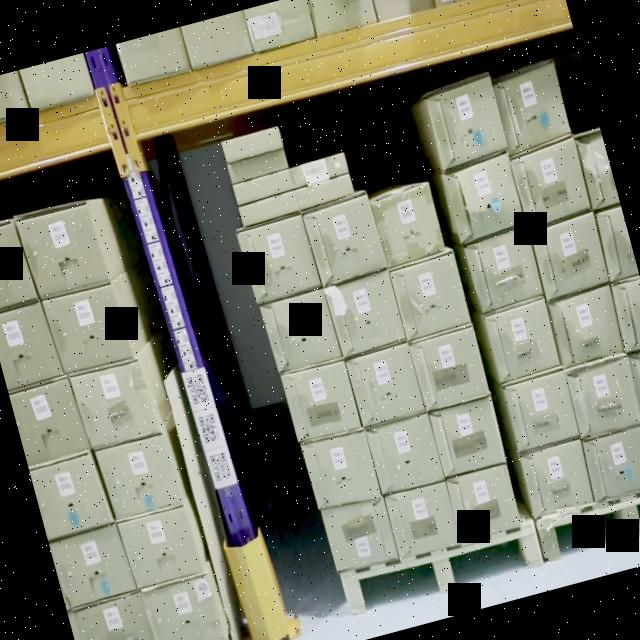box: (230, 208, 323, 308), (42, 276, 134, 372), (17, 206, 108, 297), (72, 361, 162, 451), (95, 430, 182, 521), (277, 355, 361, 446), (257, 286, 341, 376), (302, 192, 384, 282), (440, 153, 526, 238), (324, 271, 406, 359), (118, 504, 206, 586), (502, 371, 586, 456), (408, 321, 489, 408), (300, 431, 382, 516), (546, 282, 628, 366), (428, 394, 507, 481), (460, 230, 542, 312), (559, 351, 640, 434), (512, 142, 590, 227), (344, 346, 422, 428), (385, 478, 463, 558), (534, 218, 610, 300), (484, 303, 562, 381), (425, 83, 504, 160), (446, 459, 519, 542), (372, 186, 448, 262), (391, 256, 468, 331), (319, 500, 396, 575), (493, 72, 568, 149), (522, 441, 596, 518), (368, 419, 446, 492), (140, 574, 226, 640), (582, 426, 640, 505), (70, 593, 158, 640), (226, 146, 289, 187), (240, 192, 302, 226), (220, 125, 280, 158), (232, 169, 294, 199), (297, 177, 355, 209), (292, 156, 348, 188)
